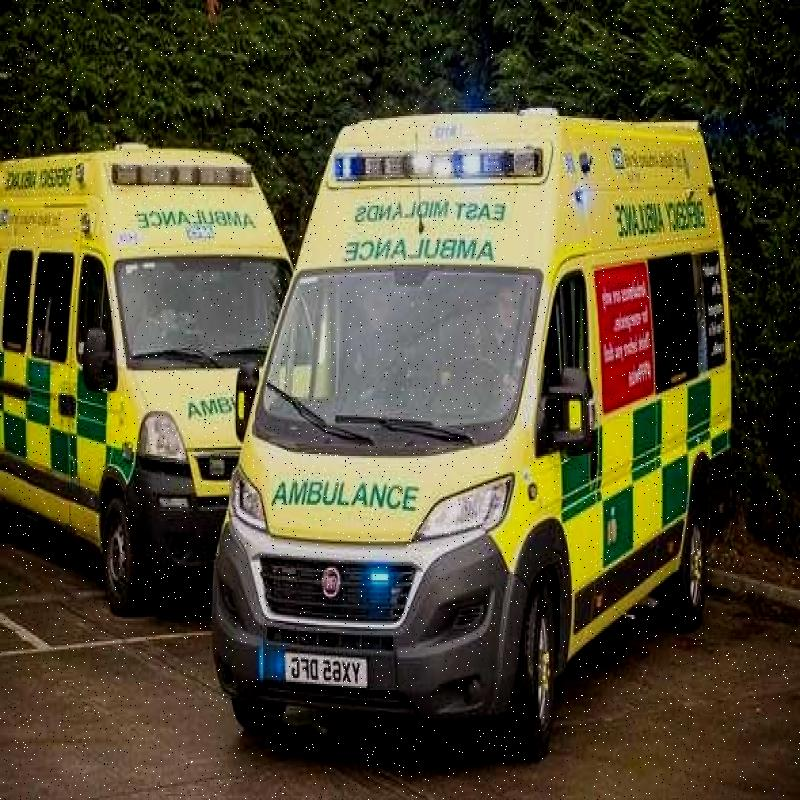AmbulanceSiren: (333, 131, 551, 204)
